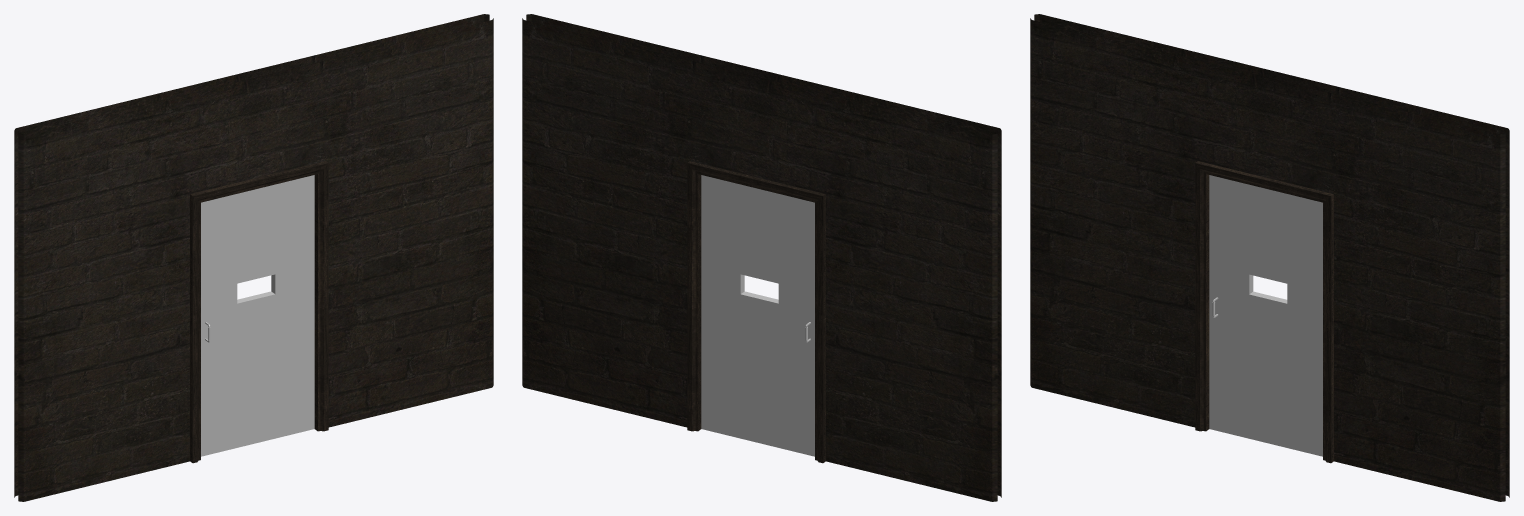
File: doorway_1_plain.obj
3 renders of one model, left to right at view 1: azimuth 30°, elevation 25°; view 2: azimuth 150°, elevation 25°; view 3: azimuth 330°, elevation 25°, orthographic.
Visible parts, largest first — view 1: doorway_1_plain, door_mp_6; view 2: doorway_1_plain, door_mp_6; view 3: doorway_1_plain, door_mp_6.
Boxes of the visible parts, left/top/right/bottom form: doorway_1_plain: left=14, top=14, right=493, bottom=501; door_mp_6: left=201, top=175, right=314, bottom=456; doorway_1_plain: left=522, top=14, right=1001, bottom=501; door_mp_6: left=701, top=175, right=814, bottom=456; doorway_1_plain: left=1030, top=14, right=1509, bottom=501; door_mp_6: left=1209, top=175, right=1322, bottom=456.
Bounding box in the file's own units: 4.06 × 3 × 0.2.
